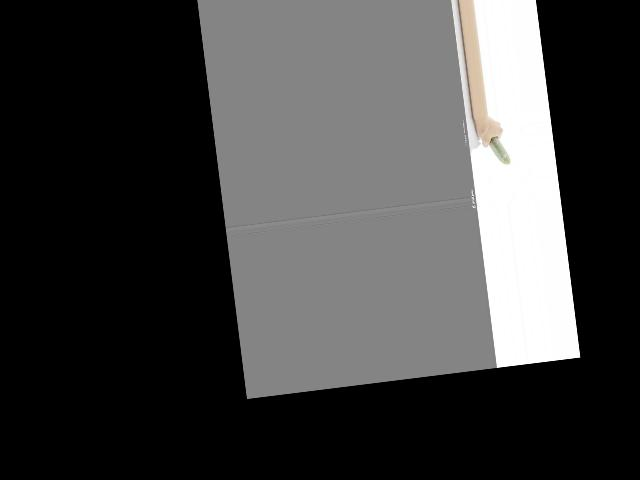cucumber: (488, 134, 510, 166)
